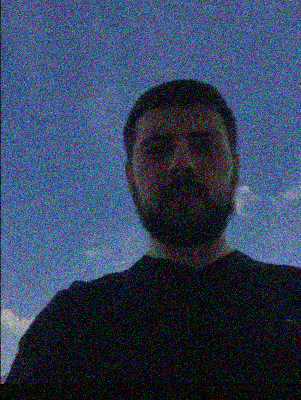without_mask: (132, 124, 232, 247)
